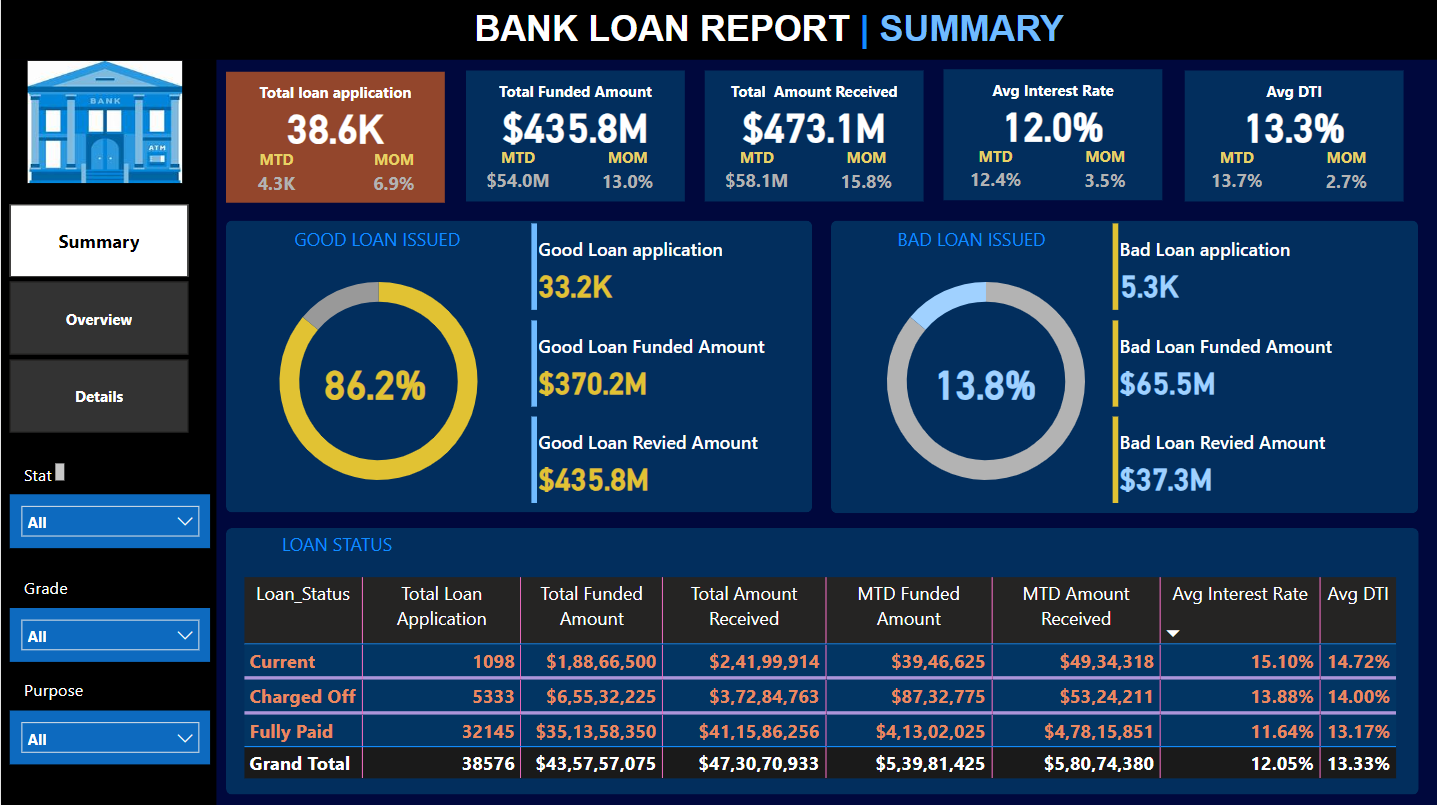

This screenshot's page, from the dashboard's own definition file:
{"tool":"powerbi","page":{"name":"Summary","canvas":[1280,720],"ordinal":0},"visuals":[{"type":"shape","box":[839.7,63.9,194.9,116.6],"z":0,"group":"g4"},{"type":"shape","box":[414.4,64.5,194.9,116.6],"z":0,"group":"g2"},{"type":"shape","box":[627.1,64.5,194.9,116.6],"z":0,"group":"g3"},{"type":"shape","box":[1053.9,64.5,194.9,116.6],"z":0,"group":"g5"},{"type":"shape","box":[200.3,65.9,194.9,116.6],"z":0,"group":"g1"},{"type":"shape","box":[200.3,197.6,522,260],"z":0},{"type":"card","fields":{"Values":["Bank_Loan_Data.Avg Interest Rate"]},"box":[839.7,83.1,194.9,59],"z":1000,"group":"g4"},{"type":"card","fields":{"Values":["Bank_Loan_Data.Total Funded Amount"]},"box":[414.4,83.7,194.9,59],"z":1000,"group":"g2"},{"type":"card","fields":{"Values":["Bank_Loan_Data.Total Amount Received"]},"box":[627.1,83.7,194.9,59],"z":1000,"group":"g3"},{"type":"card","fields":{"Values":["Bank_Loan_Data.Avg DTI"]},"box":[1053.9,83.7,194.9,59],"z":1000,"group":"g5"},{"type":"card","fields":{"Values":["Bank_Loan_Data.Total Loan Application"]},"box":[200.3,85.1,194.9,59],"z":1000,"group":"g1"},{"type":"donutChart","fields":{"Category":["Bank_Loan_Data.Good vs Bad loan"],"Y":["Bank_Loan_Data.Total Loan Application"]},"box":[211.3,226.4,249.7,230.5],"z":1000},{"type":"shape","box":[0,0,1280.3,55],"z":2000},{"type":"textbox","box":[839.7,68,194.9,30.2],"z":2000,"group":"g4"},{"type":"textbox","box":[414.4,68.6,194.9,30.2],"z":2000,"group":"g2"},{"type":"textbox","box":[627.1,68.6,194.9,30.2],"z":2000,"group":"g3"},{"type":"textbox","box":[1053.9,68.6,194.9,30.2],"z":2000,"group":"g5"},{"type":"textbox","box":[200.3,70,194.9,30.2],"z":2000,"group":"g1"},{"type":"card","title":"MTD","fields":{"Values":["Bank_Loan_Data.MTD Avg int Rate"]},"box":[849.8,132.2,72.7,46.7],"z":3000,"group":"g4"},{"type":"card","title":"MTD","fields":{"Values":["Bank_Loan_Data.MTD Funded Amount"]},"box":[424.5,132.8,72.7,46.7],"z":3000,"group":"g2"},{"type":"card","title":"MTD","fields":{"Values":["Bank_Loan_Data.MTD Amount Received"]},"box":[637.2,132.8,72.7,46.7],"z":3000,"group":"g3"},{"type":"card","title":"MTD","fields":{"Values":["Bank_Loan_Data.MTD Avg dti"]},"box":[1064,132.8,72.7,46.7],"z":3000,"group":"g5"},{"type":"card","title":"MTD","fields":{"Values":["Bank_Loan_Data.MTD Laon Application"]},"box":[219.5,134.5,52.1,46.7],"z":3000,"group":"g1"},{"type":"textbox","box":[245.6,197.6,178.4,41.2],"z":3000},{"type":"card","title":"MOM","fields":{"Values":["Bank_Loan_Data.MOM Avg int Rate"]},"box":[952.7,132.2,63.1,48],"z":4000,"group":"g4"},{"type":"card","title":"MOM","fields":{"Values":["Bank_Loan_Data.MOM Funded Amount"]},"box":[527.4,132.8,63.1,48],"z":4000,"group":"g2"},{"type":"card","title":"MOM","fields":{"Values":["Bank_Loan_Data.MOM Amount Received"]},"box":[740.1,132.8,63.1,48],"z":4000,"group":"g3"},{"type":"card","title":"MOM","fields":{"Values":["Bank_Loan_Data.MOM Avg Dti"]},"box":[1166.9,132.8,63.1,48],"z":4000,"group":"g5"},{"type":"card","title":"MOM","fields":{"Values":["Bank_Loan_Data.MOM Loan Application"]},"box":[323.8,134.5,52.1,48],"z":4000,"group":"g1"},{"type":"card","fields":{"Values":["Bank_Loan_Data.Good Loan %"]},"box":[271.7,312.9,123.5,59],"z":4000},{"type":"shape","box":[0,54.3,191.8,666],"z":5000},{"type":"textbox","box":[395.2,4.1,585.9,46.7],"z":6000},{"type":"group","id":"g1","title":"Group 1","box":[200.3,65.9,194.9,116.6],"z":7000},{"type":"group","id":"g2","title":"Group 1","box":[414.4,64.5,194.9,116.6],"z":8000},{"type":"group","id":"g3","title":"Group 1","box":[627.1,64.5,194.9,116.6],"z":9000},{"type":"group","id":"g4","title":"Group 1","box":[839.7,63.9,194.2,115.8],"z":10000},{"type":"group","id":"g5","title":"Group 1","box":[1053.9,64.5,194.9,116.6],"z":11000},{"type":"shape","box":[739.6,197.6,522.8,260.7],"z":12000},{"type":"cardVisual","fields":{"Data":["Bank_Loan_Data.Good Loan app","Bank_Loan_Data.Good Loan Fuinded Amount","Bank_Loan_Data.Good Loan Received Amount"]},"box":[467.9,196.2,245.6,260.7],"z":13000},{"type":"donutChart","fields":{"Category":["Bank_Loan_Data.Good vs Bad loan"],"Y":["Bank_Loan_Data.Total Loan Application"]},"box":[752,226.4,249.7,230.5],"z":14000},{"type":"textbox","box":[752,197.6,223.7,41.2],"z":15000},{"type":"card","fields":{"Values":["Bank_Loan_Data.Bad Loan %"]},"box":[815.1,312.9,123.5,59],"z":16000},{"type":"shape","box":[200.3,472,1062.1,237.4],"z":17000},{"type":"tableEx","fields":{"Values":["Bank_Loan_Data.loan_status","Bank_Loan_Data.Total Loan Application","Bank_Loan_Data.Total Funded Amount","Bank_Loan_Data.Total Amount Received","Bank_Loan_Data.MTD Funded Amount","Bank_Loan_Data.MTD Amount Received","Bank_Loan_Data.Avg Interest Rate","Bank_Loan_Data.Avg DTI"]},"box":[209.9,510.5,1041.5,199],"z":18000},{"type":"cardVisual","fields":{"Data":["Bank_Loan_Data.Bad Loan application","Bank_Loan_Data.Bad Loan Funded Amount","Bank_Loan_Data.Bad Loan Revied Amount"]},"box":[985.3,196.2,263.5,260.7],"z":19000},{"type":"textbox","box":[219.6,469.3,155.6,41],"z":20000},{"type":"slicer","fields":{"Values":["Bank_Loan_Data.address_state"]},"box":[7.2,441.6,178.6,48.3],"z":21000},{"type":"textbox","box":[15.7,410.2,45.8,31.4],"z":22000},{"type":"slicer","fields":{"Values":["Bank_Loan_Data.grade"]},"box":[7.2,542.9,178.6,48.3],"z":23000},{"type":"slicer","fields":{"Values":["Bank_Loan_Data.purpose"]},"box":[7.2,634.6,178.6,48.3],"z":24000},{"type":"textbox","box":[15.7,510.3,71.2,38.6],"z":25000},{"type":"textbox","box":[15.7,600.8,90.5,33.8],"z":26000},{"type":"image","box":[19.3,50.7,147.2,118.2],"z":26001},{"type":"pageNavigator","box":[7.2,183.4,159.3,203.9],"z":26002}]}

Visuals, with their boxes in screenshot pixels (x1, y1, x2, y2), scaled from the page's 1280x720 canvas onto the 1437x805 screenshot:
shape: [left=943, top=71, right=1162, bottom=202]
shape: [left=465, top=72, right=684, bottom=202]
shape: [left=704, top=72, right=923, bottom=202]
shape: [left=1183, top=72, right=1402, bottom=202]
shape: [left=225, top=74, right=444, bottom=204]
shape: [left=225, top=221, right=811, bottom=512]
card - Bank_Loan_Data.Avg Interest Rate: [left=943, top=93, right=1162, bottom=159]
card - Bank_Loan_Data.Total Funded Amount: [left=465, top=94, right=684, bottom=160]
card - Bank_Loan_Data.Total Amount Received: [left=704, top=94, right=923, bottom=160]
card - Bank_Loan_Data.Avg DTI: [left=1183, top=94, right=1402, bottom=160]
card - Bank_Loan_Data.Total Loan Application: [left=225, top=95, right=444, bottom=161]
donutChart - Bank_Loan_Data.Good vs Bad loan x Bank_Loan_Data.Total Loan Application: [left=237, top=253, right=518, bottom=511]
shape: [left=0, top=0, right=1436, bottom=61]
textbox: [left=943, top=76, right=1162, bottom=110]
textbox: [left=465, top=77, right=684, bottom=110]
textbox: [left=704, top=77, right=923, bottom=110]
textbox: [left=1183, top=77, right=1402, bottom=110]
textbox: [left=225, top=78, right=444, bottom=112]
"MTD" card: [left=954, top=148, right=1036, bottom=200]
"MTD" card: [left=477, top=148, right=558, bottom=201]
"MTD" card: [left=715, top=148, right=797, bottom=201]
"MTD" card: [left=1195, top=148, right=1276, bottom=201]
"MTD" card: [left=246, top=150, right=305, bottom=203]
textbox: [left=276, top=221, right=476, bottom=267]
"MOM" card: [left=1070, top=148, right=1140, bottom=201]
"MOM" card: [left=592, top=148, right=663, bottom=202]
"MOM" card: [left=831, top=148, right=902, bottom=202]
"MOM" card: [left=1310, top=148, right=1381, bottom=202]
"MOM" card: [left=364, top=150, right=422, bottom=204]
card - Bank_Loan_Data.Good Loan %: [left=305, top=350, right=444, bottom=416]
shape: [left=0, top=61, right=215, bottom=804]
textbox: [left=444, top=5, right=1101, bottom=57]
"Group 1" group: [left=225, top=74, right=444, bottom=204]
"Group 1" group: [left=465, top=72, right=684, bottom=202]
"Group 1" group: [left=704, top=72, right=923, bottom=202]
"Group 1" group: [left=943, top=71, right=1161, bottom=201]
"Group 1" group: [left=1183, top=72, right=1402, bottom=202]
shape: [left=830, top=221, right=1417, bottom=512]
cardVisual - Bank_Loan_Data.Good Loan app x Bank_Loan_Data.Good Loan Fuinded Amount: [left=525, top=219, right=801, bottom=511]
donutChart - Bank_Loan_Data.Good vs Bad loan x Bank_Loan_Data.Total Loan Application: [left=844, top=253, right=1125, bottom=511]
textbox: [left=844, top=221, right=1095, bottom=267]
card - Bank_Loan_Data.Bad Loan %: [left=915, top=350, right=1054, bottom=416]
shape: [left=225, top=528, right=1417, bottom=793]
tableEx - Bank_Loan_Data.loan_status x Bank_Loan_Data.Total Loan Application: [left=236, top=571, right=1405, bottom=793]
cardVisual - Bank_Loan_Data.Bad Loan application x Bank_Loan_Data.Bad Loan Funded Amount: [left=1106, top=219, right=1402, bottom=511]
textbox: [left=247, top=525, right=421, bottom=571]
slicer - Bank_Loan_Data.address_state: [left=8, top=494, right=209, bottom=548]
textbox: [left=18, top=459, right=69, bottom=494]
slicer - Bank_Loan_Data.grade: [left=8, top=607, right=209, bottom=661]
slicer - Bank_Loan_Data.purpose: [left=8, top=710, right=209, bottom=764]
textbox: [left=18, top=571, right=98, bottom=614]
textbox: [left=18, top=672, right=119, bottom=710]
image: [left=22, top=57, right=187, bottom=189]
pageNavigator: [left=8, top=205, right=187, bottom=433]
